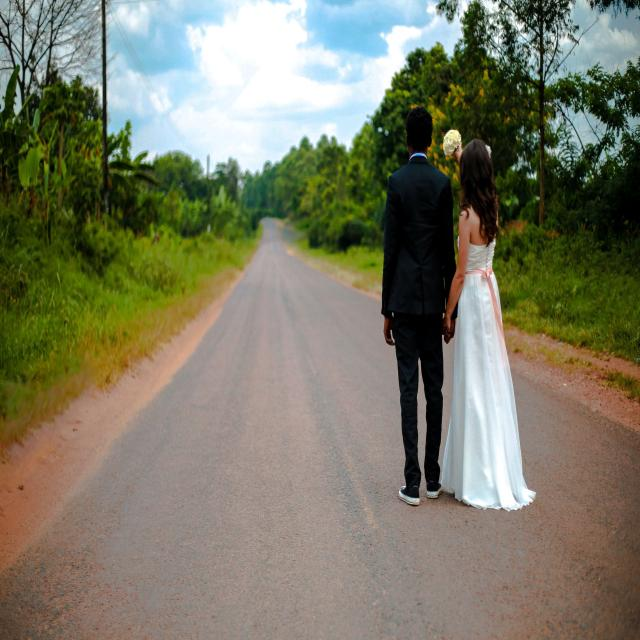adult: (381, 100, 455, 512), (442, 137, 516, 514)
